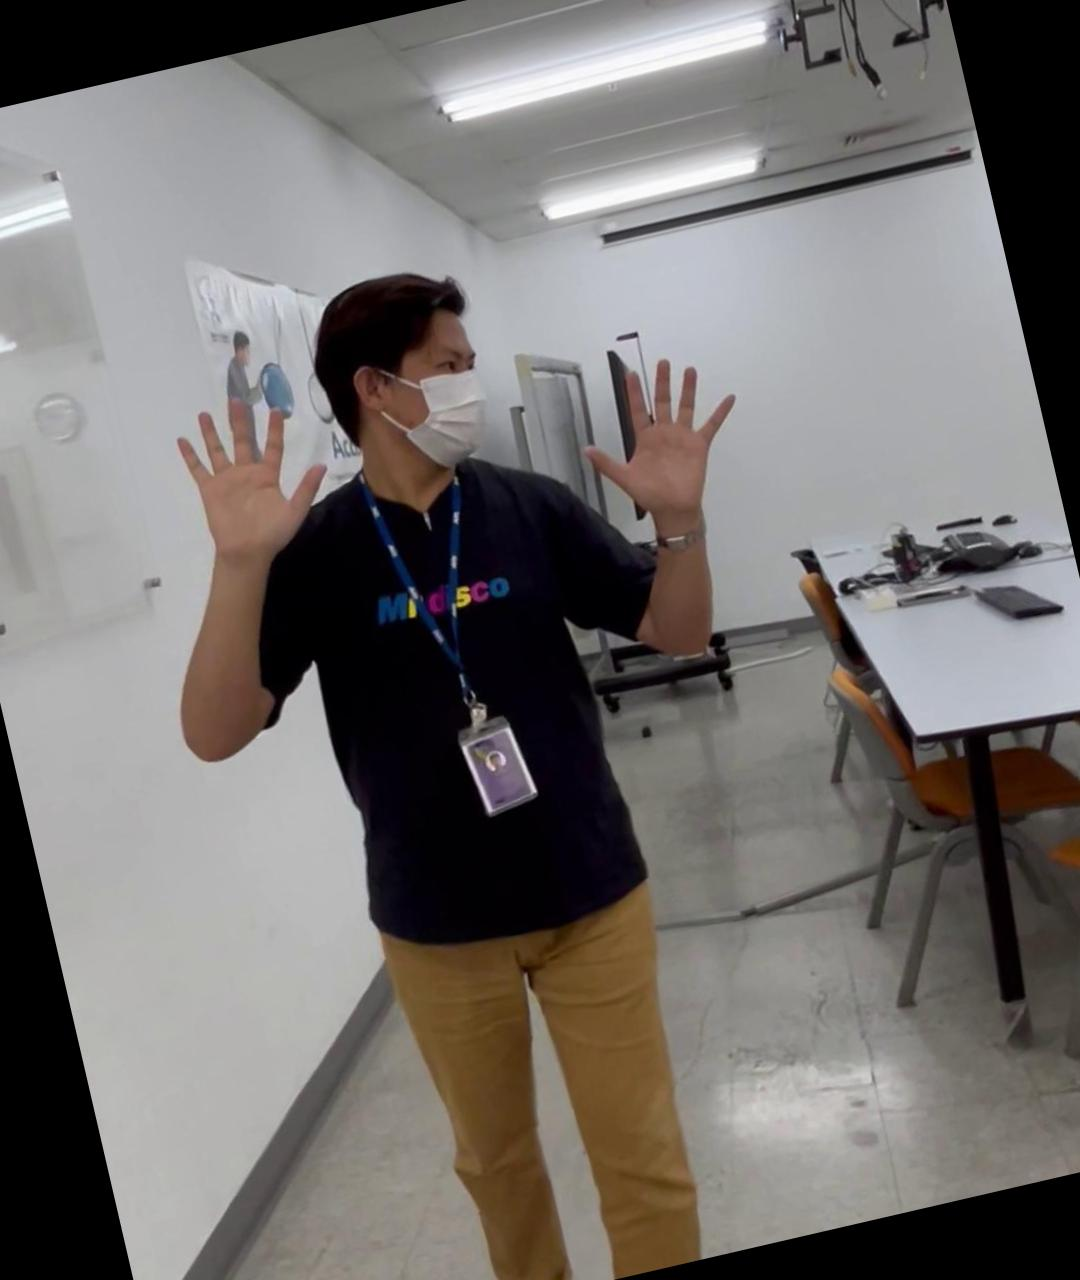No-gloves: (157, 372, 339, 567), (566, 342, 753, 523)
